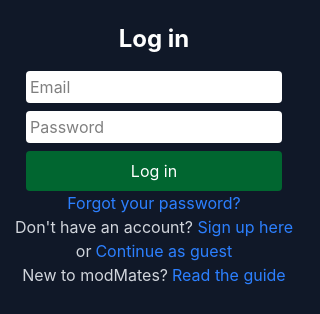
Test case: shows error message when signIn fails
Type "test@example.com" into the field with placeholder "Email" at (154, 87), box [26,71,282,103]
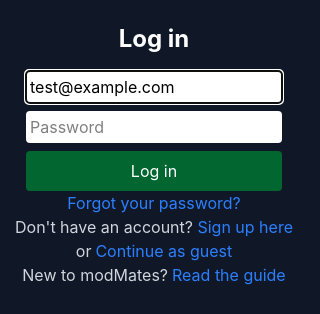
Type "password" into the password field with placeholder "Password" at (154, 127), box [26,111,282,143]
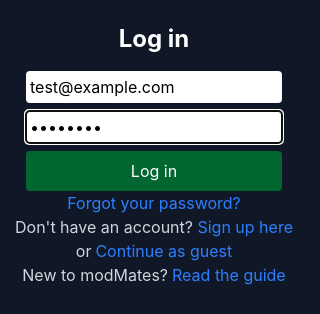
Click the button "Log in" at (154, 171), box [26,151,282,191]
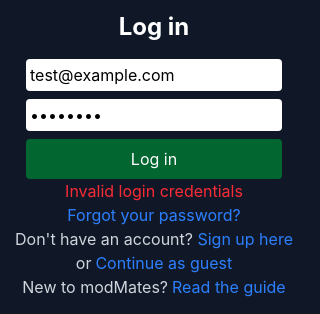
expect the text "Invalid login credentials" is shown: met, box [65,179,243,203]
